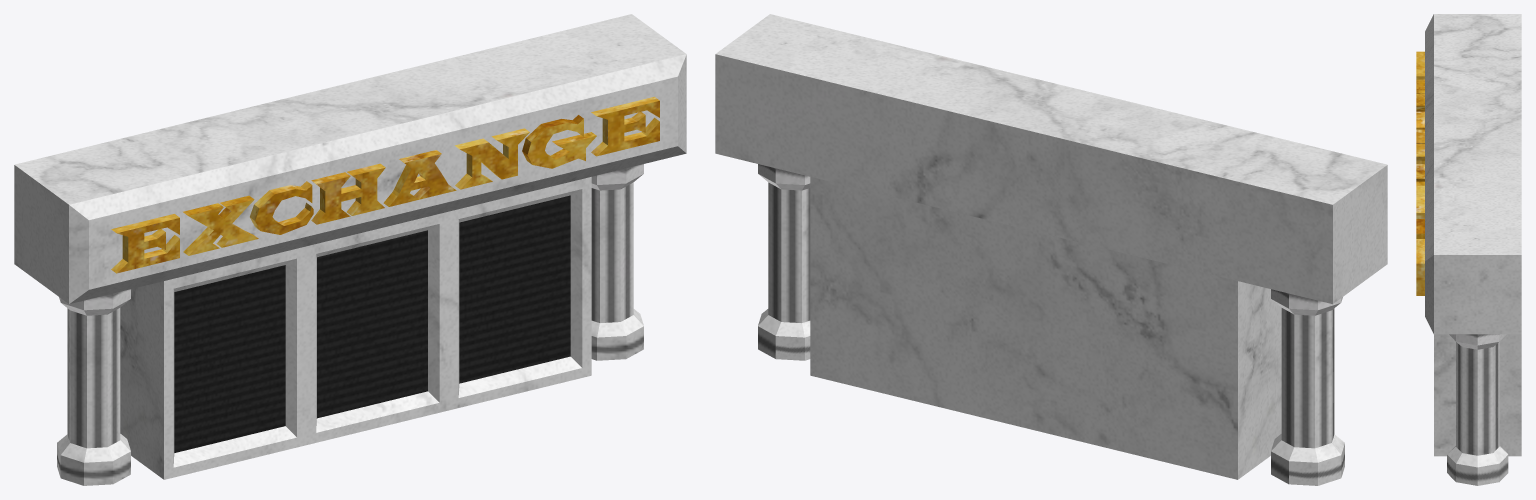
The model's file is exchange.fbx.
The picture shows the model from 3 angles, left to right: view 1: azimuth 30°, elevation 25°; view 2: azimuth 150°, elevation 25°; view 3: azimuth 270°, elevation 25°; orthographic projection. The views are drawn at different scales.
Parts seen in each view (by area): view 1: доска, текст, колонна 1, колонна 2; view 2: доска, колонна 1, колонна 2; view 3: доска, колонна 2, текст.
Part boxes in pixels (x1,y1,x2,y2): доска: [14, 14, 686, 479]; текст: [111, 96, 659, 273]; колонна 1: [57, 289, 130, 485]; колонна 2: [591, 164, 643, 360]; доска: [715, 14, 1387, 479]; колонна 1: [1271, 289, 1344, 485]; колонна 2: [758, 164, 810, 360]; доска: [1425, 14, 1521, 456]; колонна 2: [1447, 334, 1508, 485]; текст: [1416, 51, 1424, 295].
Size of the model in its own units: 130 by 60 by 24.
